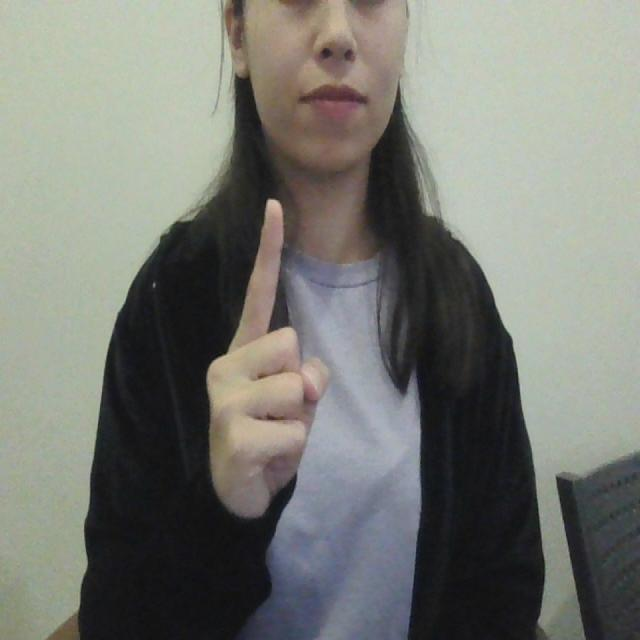Hayir: (211, 192, 350, 518)
